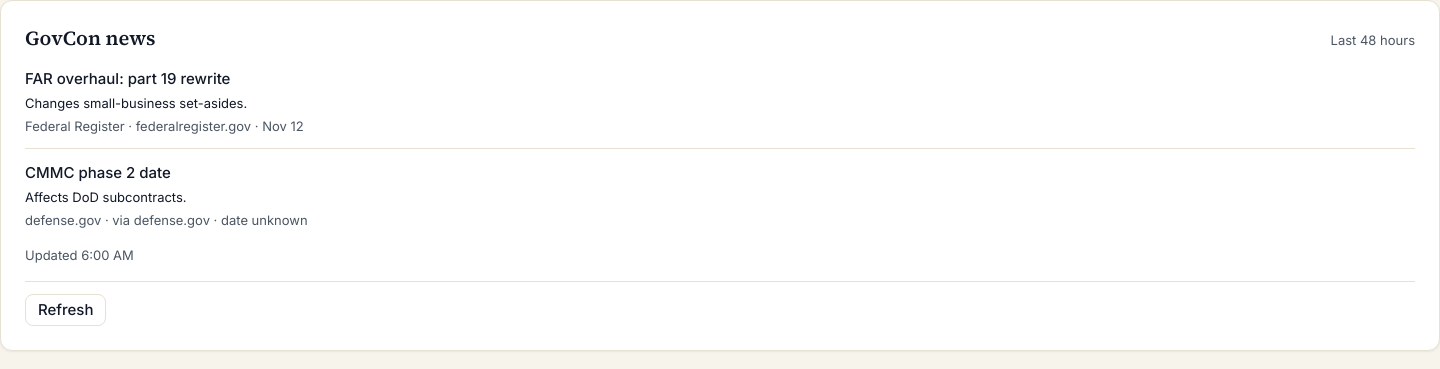
Test case: Refresh (owner only) › a press calls the action once for this lane; a refusal shows a fixed message
The width and height of the screenshot is (1440, 369).
Click the button with test id "news-refresh" at coordinates (66, 310), box [25, 294, 106, 326]
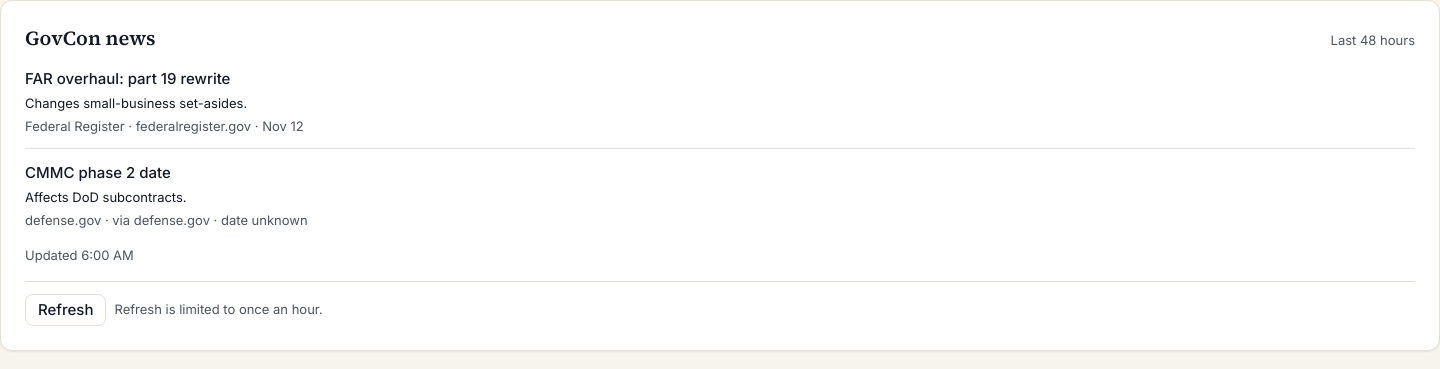
Expected: the message with test id "news-refresh-note" reads "Refresh is limited to once an hour.", [114, 301, 323, 317]
